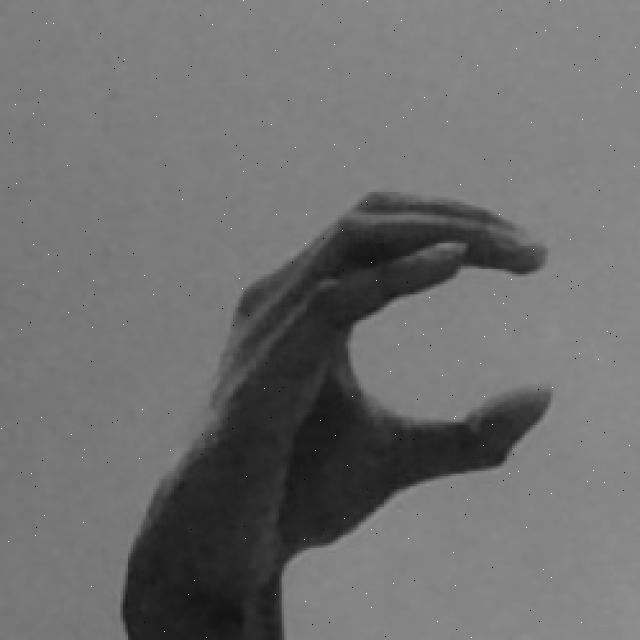C: (115, 184, 558, 640)
